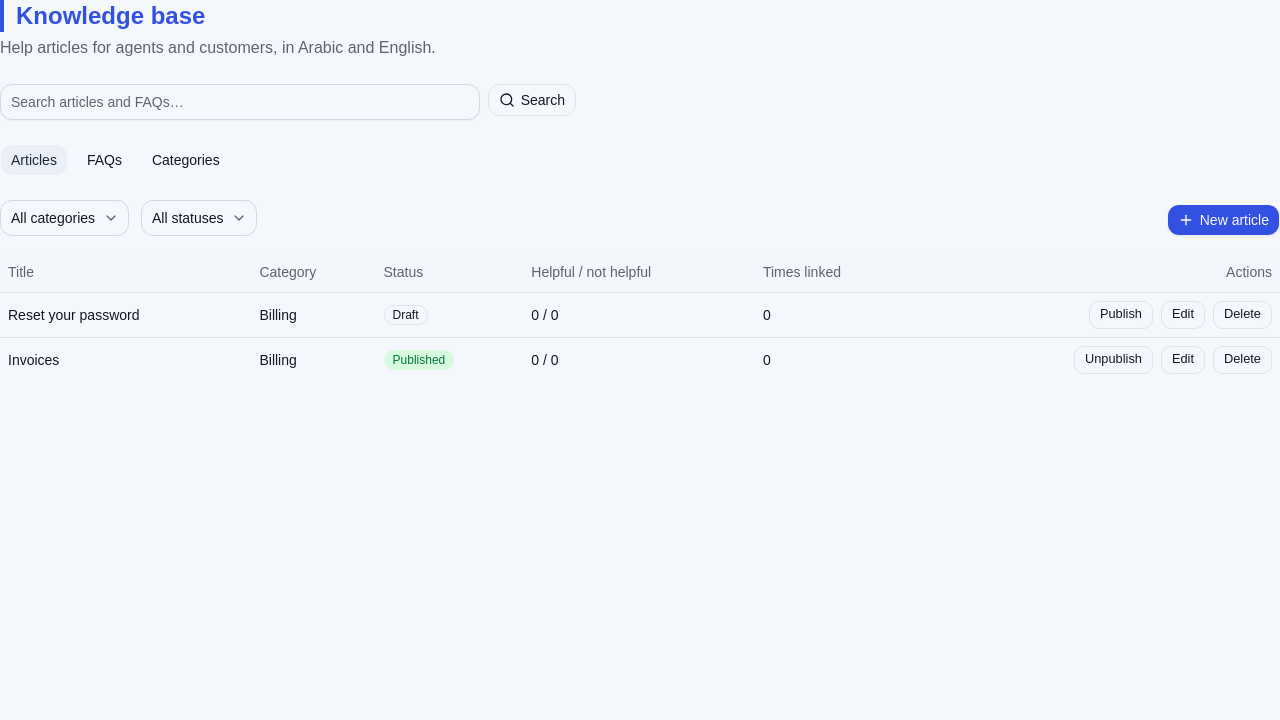
KnowledgeBasePage › asks for a title before saving
Click the button "New article" at (1223, 220), box x1=1167 y1=204 x2=1279 y2=236
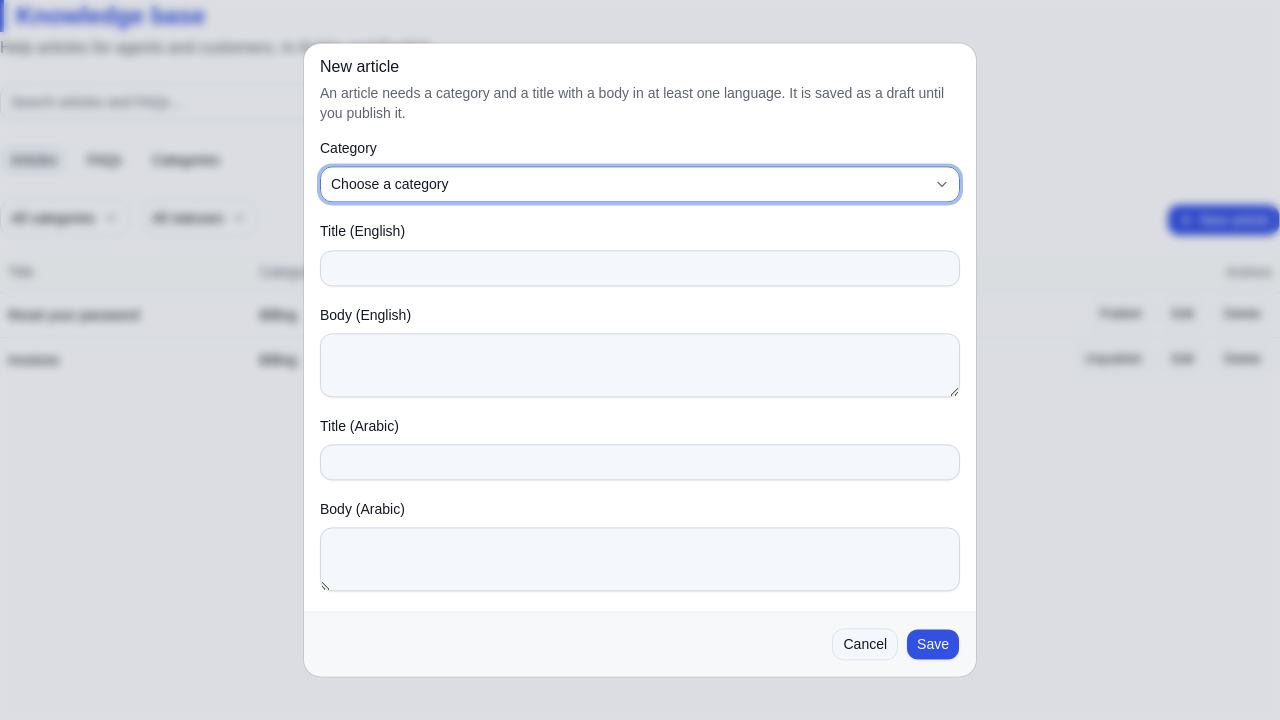
Select "Billing" in the dropdown labelled "Category" at (640, 185), box x1=320 y1=167 x2=960 y2=203
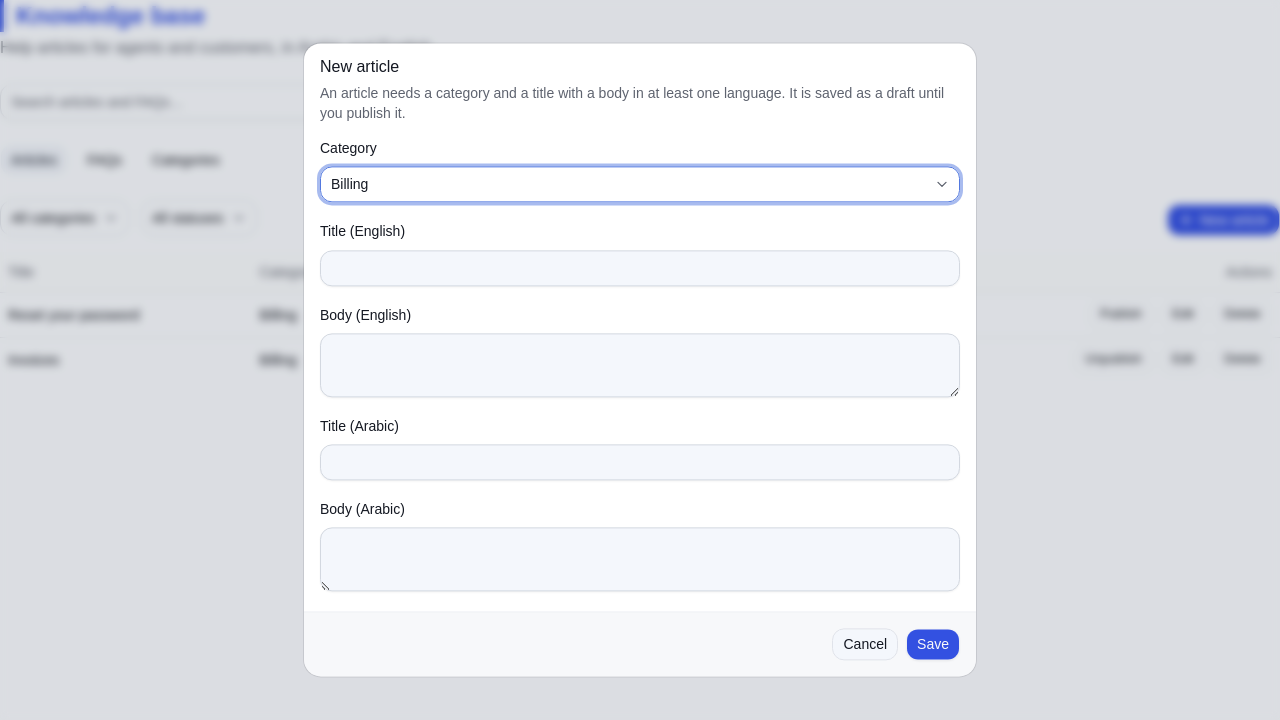
Click the button "Save" at (933, 645), box x1=906 y1=629 x2=960 y2=661
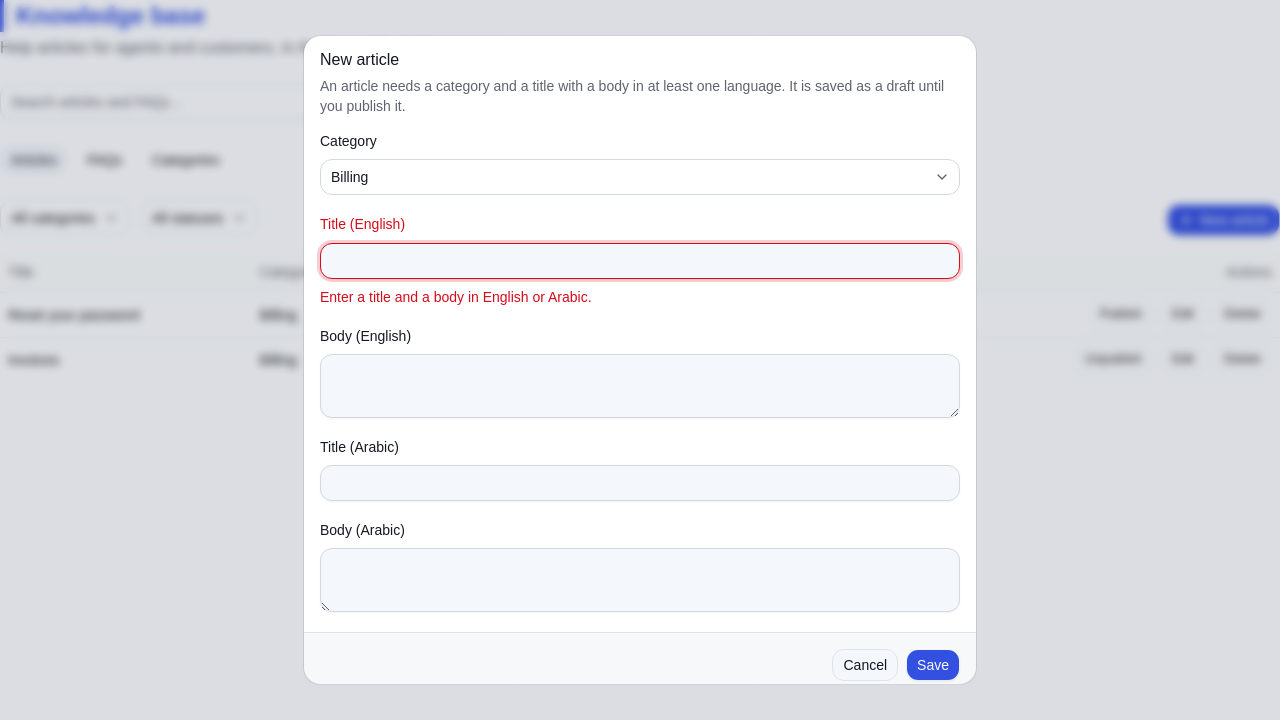
expect the text "Enter a title and a body in English or Arabic." is shown: met, box x1=320 y1=288 x2=592 y2=304
